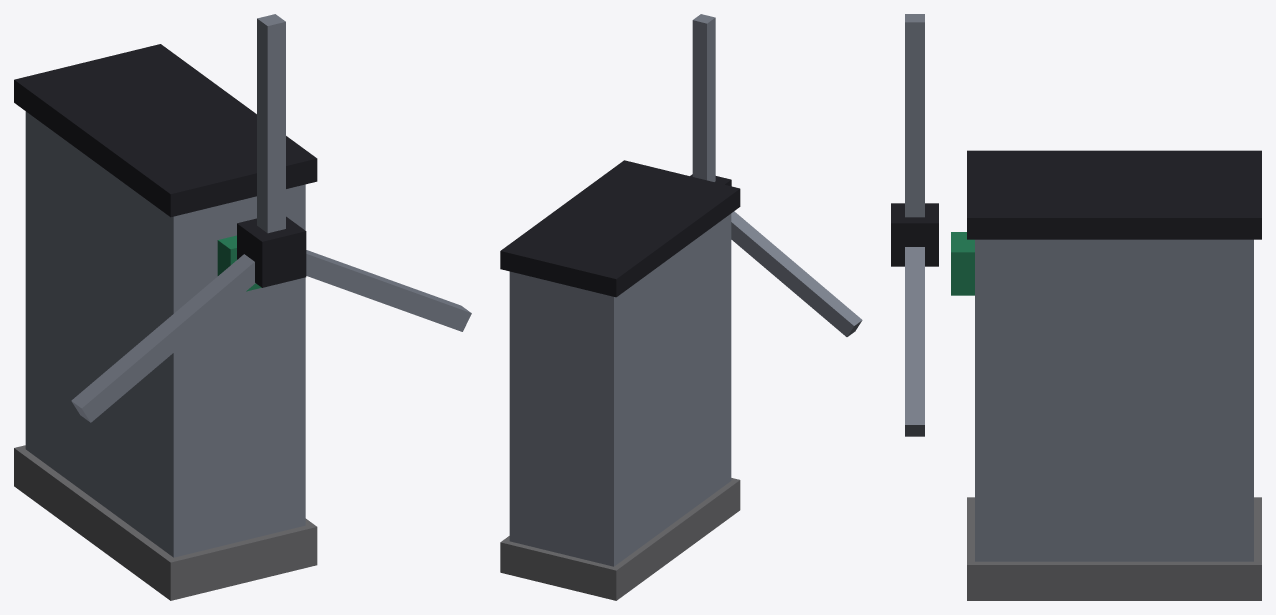
File: Torniquete.obj
The picture shows the model from 3 angles, left to right: view 1: azimuth 30°, elevation 25°; view 2: azimuth 150°, elevation 25°; view 3: azimuth 270°, elevation 25°; orthographic projection. The views are drawn at different scales.
Parts seen in each view (by area): view 1: Torniquete; view 2: Torniquete; view 3: Torniquete.
Part boxes in pixels (box(x1,y1,x2,y2)): Torniquete: box(14, 14, 471, 600); Torniquete: box(500, 14, 862, 600); Torniquete: box(891, 14, 1261, 600).
Size of the model in its own units: 1.06 by 1.52 by 0.93.
Materials: 1 (1 with a texture image).
